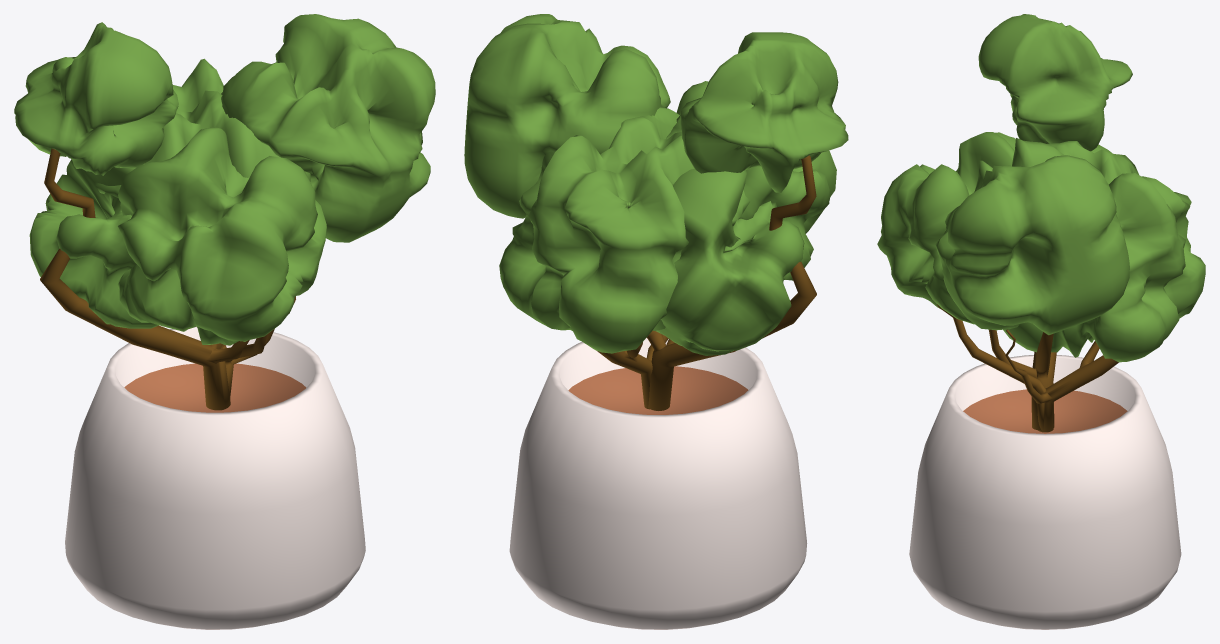
The model's file is plant2.glb.
The picture shows the model from 3 angles, left to right: view 1: azimuth 30°, elevation 25°; view 2: azimuth 150°, elevation 25°; view 3: azimuth 270°, elevation 25°; orthographic projection. The views are drawn at different scales.
Parts seen in each view (by area): view 1: leaves, pot, branch2, branch1; view 2: leaves, pot, branch2, branch1; view 3: leaves, pot, branch1, branch2.
Part boxes in pixels (x1,y1,x2,y2): leaves: (14,14,435,345); pot: (65,326,365,629); branch2: (40,148,249,410); branch1: (222,296,295,398); leaves: (464,14,848,355); pot: (509,338,807,629); branch2: (646,155,816,410); branch1: (597,334,668,409); leaves: (877,14,1205,362); pot: (909,355,1181,629); branch1: (937,304,1118,432); branch2: (989,329,1056,430).
Bounding box in the file's own units: 3.76 × 5.46 × 3.13.
Materials: 3 (1 with a texture image).
